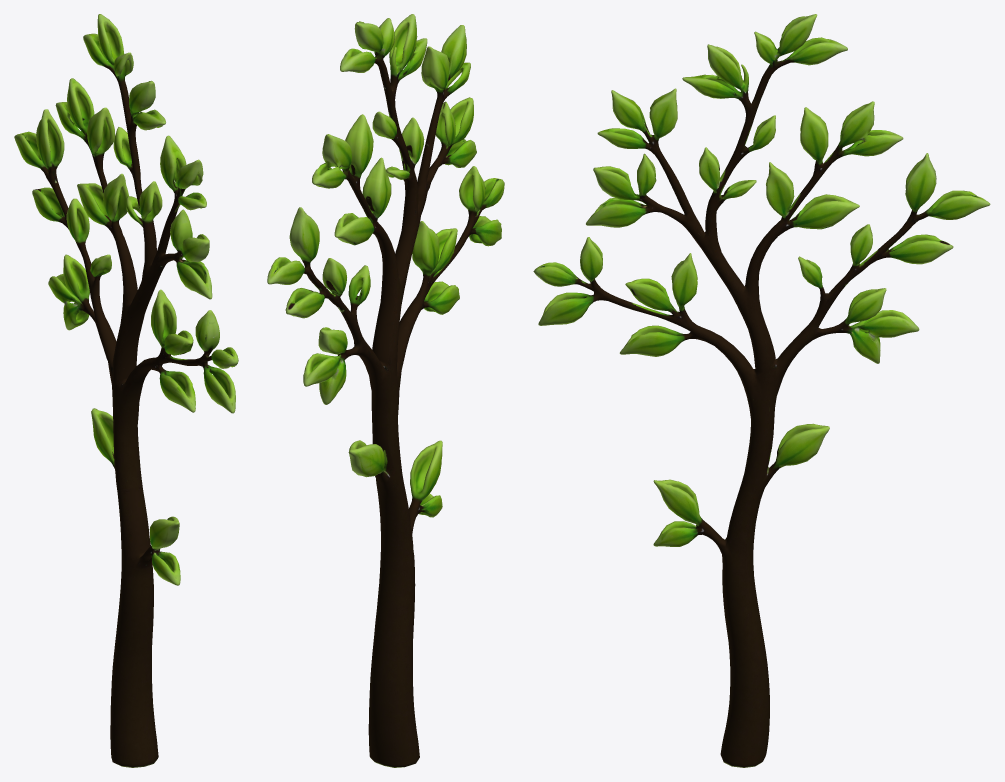
Rendered from plains_tree_02.glb.
The picture shows the model from 3 angles, left to right: view 1: azimuth 30°, elevation 25°; view 2: azimuth 150°, elevation 25°; view 3: azimuth 270°, elevation 25°; orthographic projection. The views are drawn at different scales.
Parts seen in each view (by area): view 1: tripo_node_30741d94-8ddd-4c9f-9a0b-cd7a936dd75e; view 2: tripo_node_30741d94-8ddd-4c9f-9a0b-cd7a936dd75e; view 3: tripo_node_30741d94-8ddd-4c9f-9a0b-cd7a936dd75e.
Boxes of the visible parts, left/top/right/bottom form: tripo_node_30741d94-8ddd-4c9f-9a0b-cd7a936dd75e: left=14, top=14, right=238, bottom=767; tripo_node_30741d94-8ddd-4c9f-9a0b-cd7a936dd75e: left=267, top=14, right=504, bottom=767; tripo_node_30741d94-8ddd-4c9f-9a0b-cd7a936dd75e: left=533, top=14, right=990, bottom=767.
Size of the model in its own units: 0.0611 by 0.9988 by 0.5563.
Materials: 1 (1 with a texture image).
